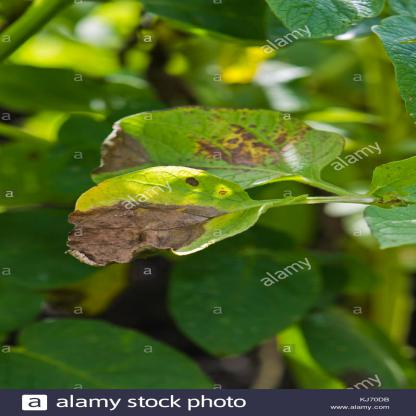Potato leaf early blight: (87, 102, 342, 193), (63, 165, 279, 261)
